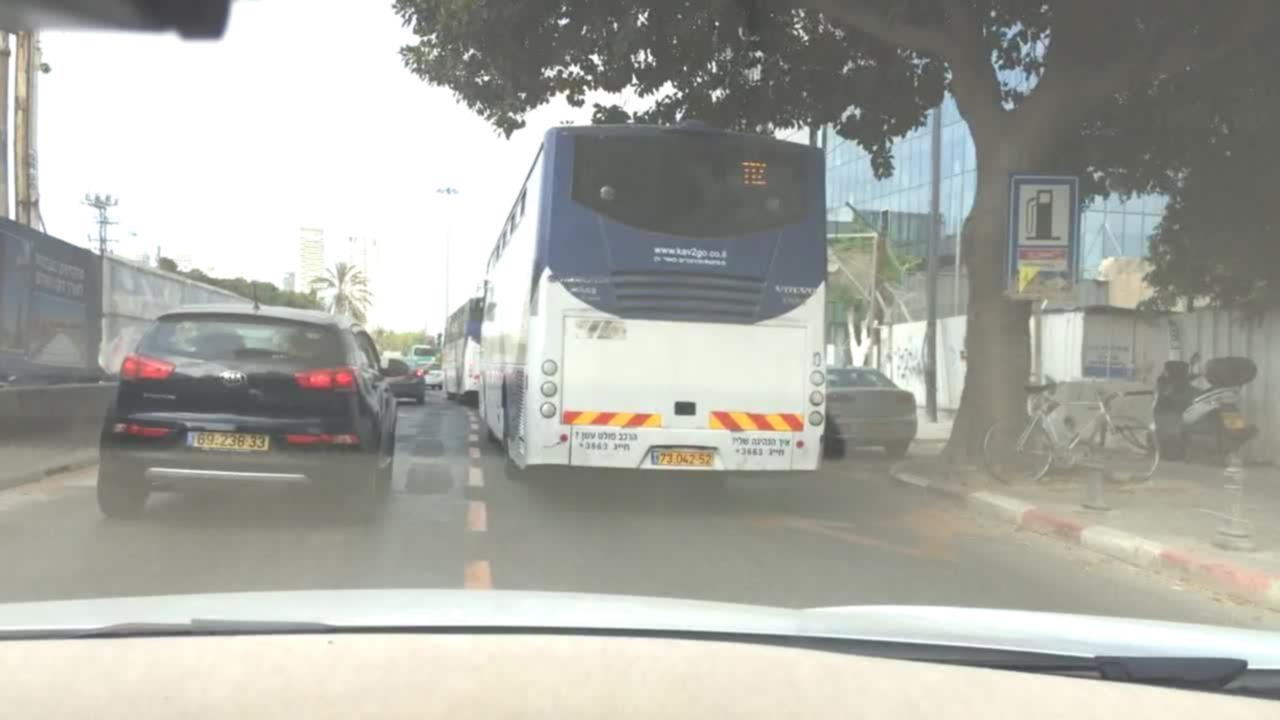kia: (212, 363, 257, 390)
